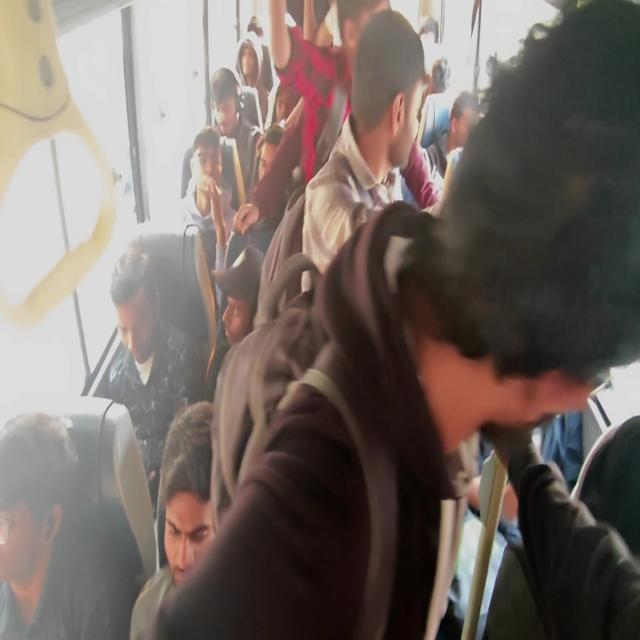person: (151, 1, 638, 637), (480, 412, 639, 638), (301, 8, 432, 280), (99, 244, 202, 566), (128, 400, 216, 638), (0, 411, 82, 638), (228, 94, 306, 263), (208, 66, 263, 205), (182, 126, 238, 243), (210, 244, 265, 348), (236, 37, 270, 126), (445, 90, 480, 158)
